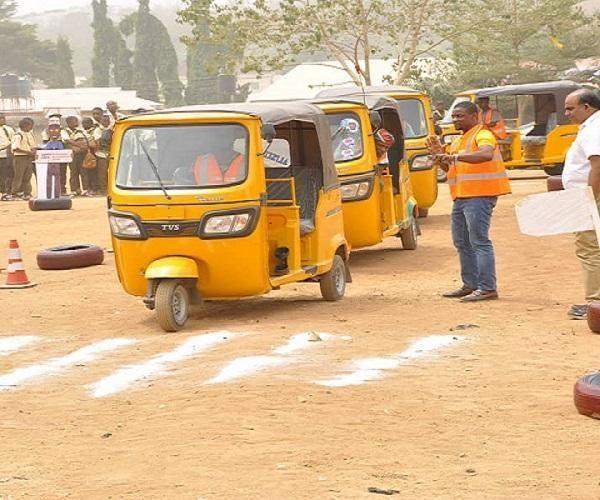keke: (108, 103, 352, 332)
